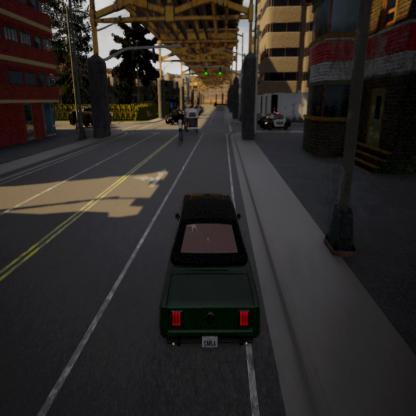Cars: (159, 182, 261, 360), (184, 102, 212, 153), (257, 102, 294, 139), (65, 102, 113, 129), (166, 103, 185, 137)
